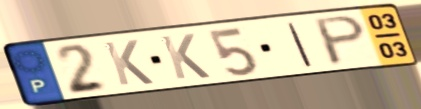2: (53, 42, 111, 96)
5: (205, 24, 263, 78)
I: (284, 21, 316, 68)
K: (100, 38, 157, 88), (157, 32, 213, 82)
P: (312, 13, 369, 68)
